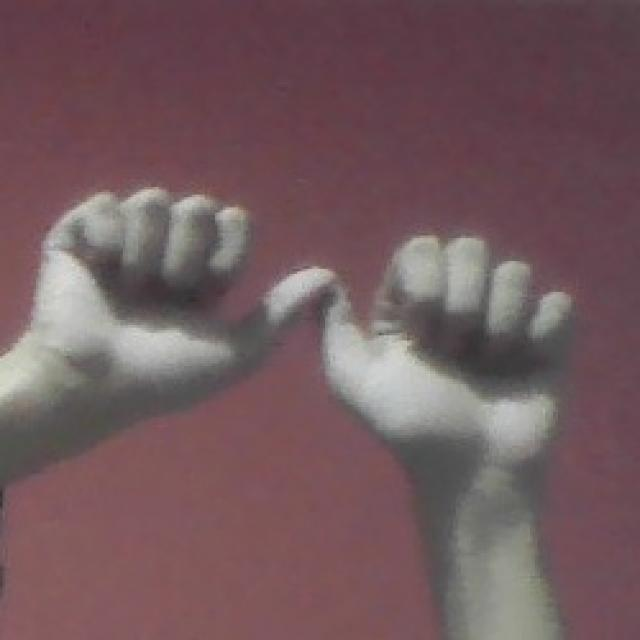Alphabet-A: (24, 182, 582, 490)
